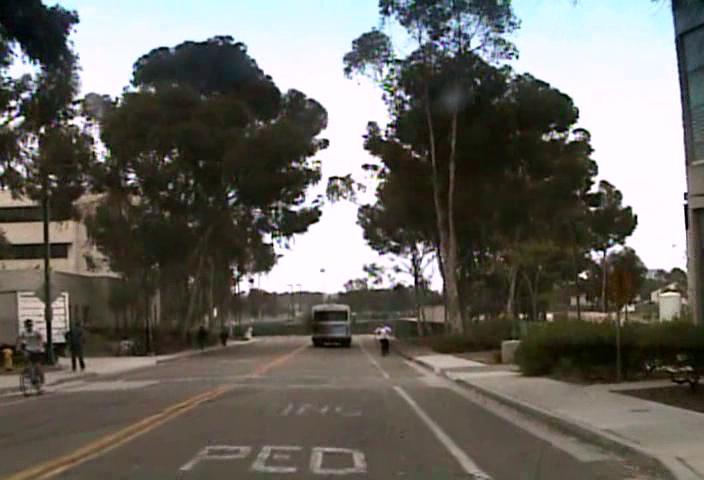pedestrianCrossing: (601, 256, 640, 309)
